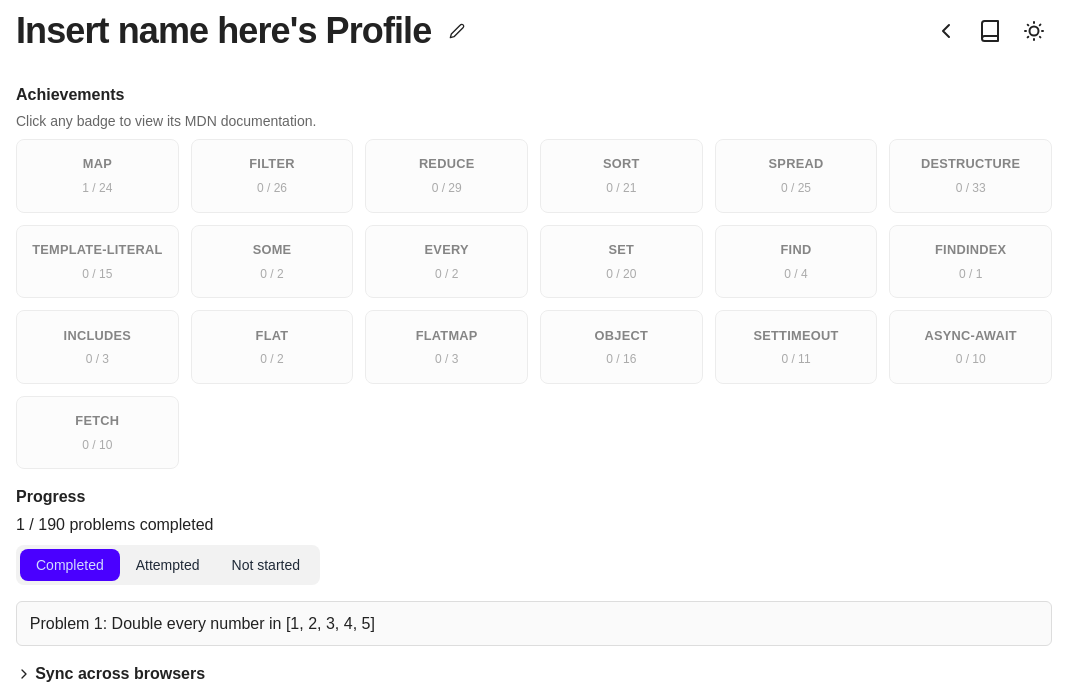
Test: ProfilePanel › switching tabs shows different exercises
This screenshot has width=1069, height=699.
Expected: the button "Problem 1: Double every number in [1, 2, 3, 4, 5]" is shown, [16,601,1052,646]
Expected: the text "Problem 2:" is not shown
Click the button "Attempted": (168, 565) [120,549,216,581]
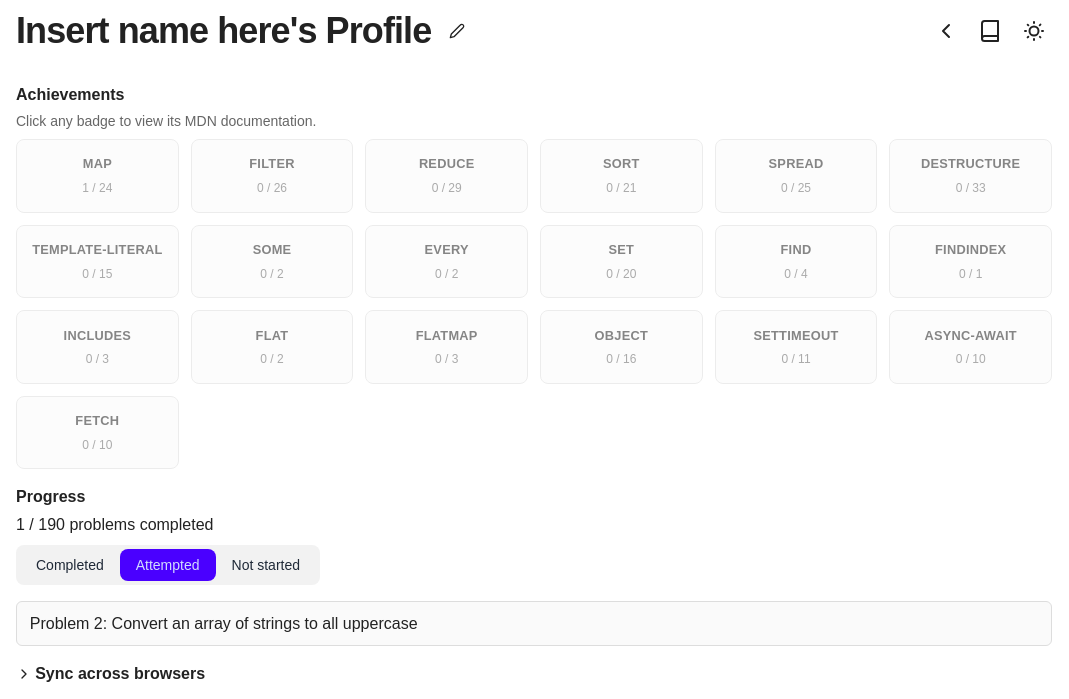
Expected: the button "Problem 2: Convert an array of strings to all uppercase" is shown, [16,601,1052,646]
Expected: the button "Problem 1:" is gone
